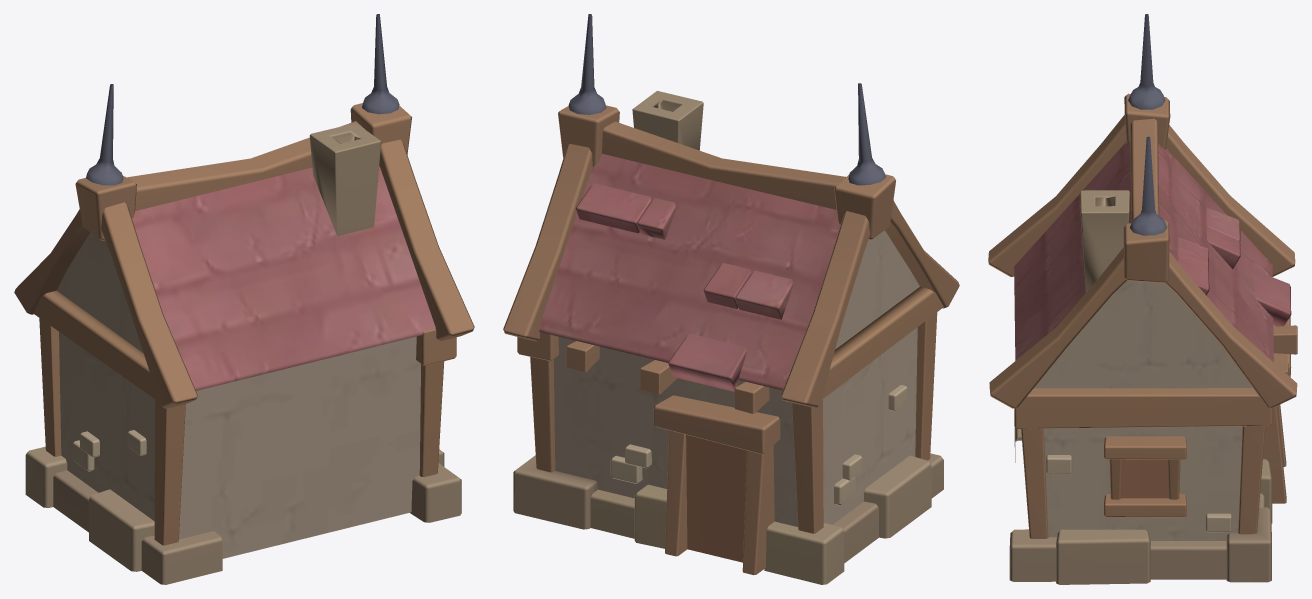
Rendered from Lumbermill.glb.
3 views of the same model, side by side, from view 1: azimuth 30°, elevation 25°; view 2: azimuth 150°, elevation 25°; view 3: azimuth 270°, elevation 25° (orthographic). The views are drawn at different scales.
Visible parts, largest first — view 1: ct_town_house_2; view 2: ct_town_house_2; view 3: ct_town_house_2.
Boxes of the visible parts, bbox=[...] form: ct_town_house_2: bbox=[14, 14, 474, 584]; ct_town_house_2: bbox=[503, 14, 959, 584]; ct_town_house_2: bbox=[988, 14, 1297, 584].
Size of the model in its own units: 6.5 by 8.89 by 5.66.
Materials: 3 (3 with a texture image).
